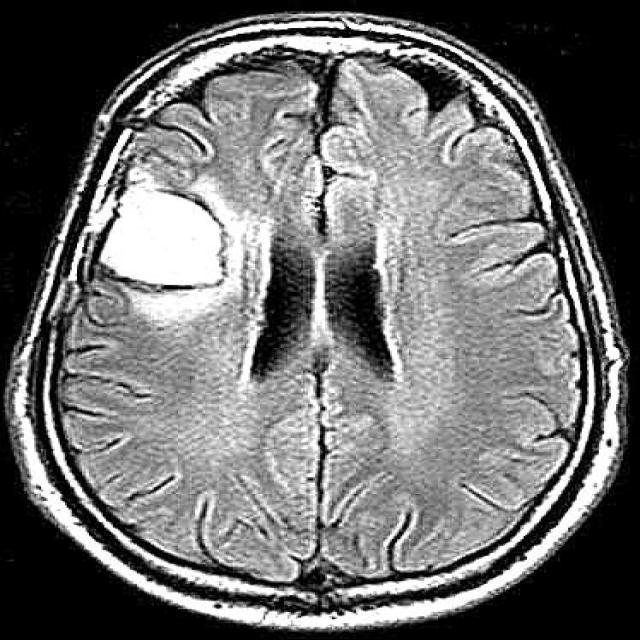brain tumor: (98, 191, 221, 288)
